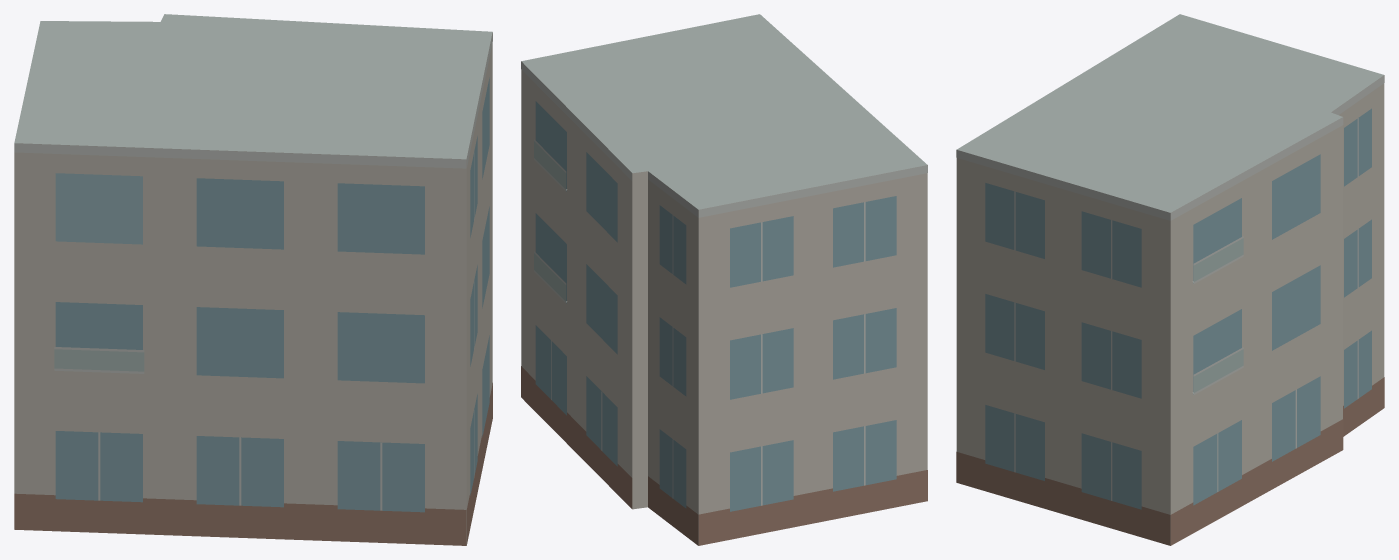
The model's file is survey-upis-32877669.glb.
The picture shows the model from 3 angles, left to right: view 1: azimuth 30°, elevation 25°; view 2: azimuth 150°, elevation 25°; view 3: azimuth 270°, elevation 25°; orthographic projection. The views are drawn at different scales.
Parts seen in each view (by area): view 1: survey-upis-32877669.tmp; view 2: survey-upis-32877669.tmp; view 3: survey-upis-32877669.tmp.
Boxes of the visible parts, x1,y1,x2,y2 form: survey-upis-32877669.tmp: (14,14,492,545); survey-upis-32877669.tmp: (521,14,927,545); survey-upis-32877669.tmp: (956,14,1384,545).
Size of the model in its own units: 12.94 by 10.1 by 11.77.
